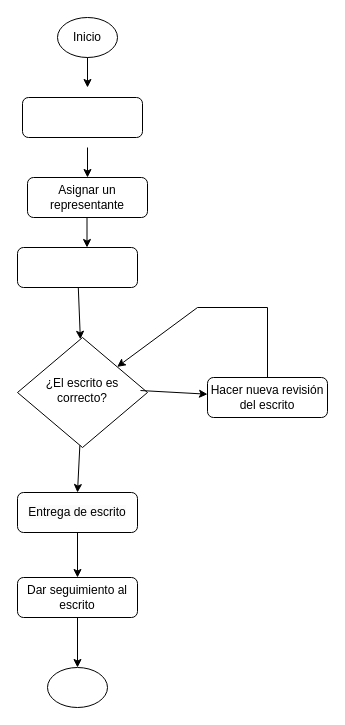
Some shapes in this 345 by 725 pixel diagram are drawn without their labels. The centre of each missing label's shape, as x and y in pixels:
fin: (x=77, y=687)
Hacer un escrito: (x=77, y=267)
Hacer una junta vecinal: (x=82, y=117)
